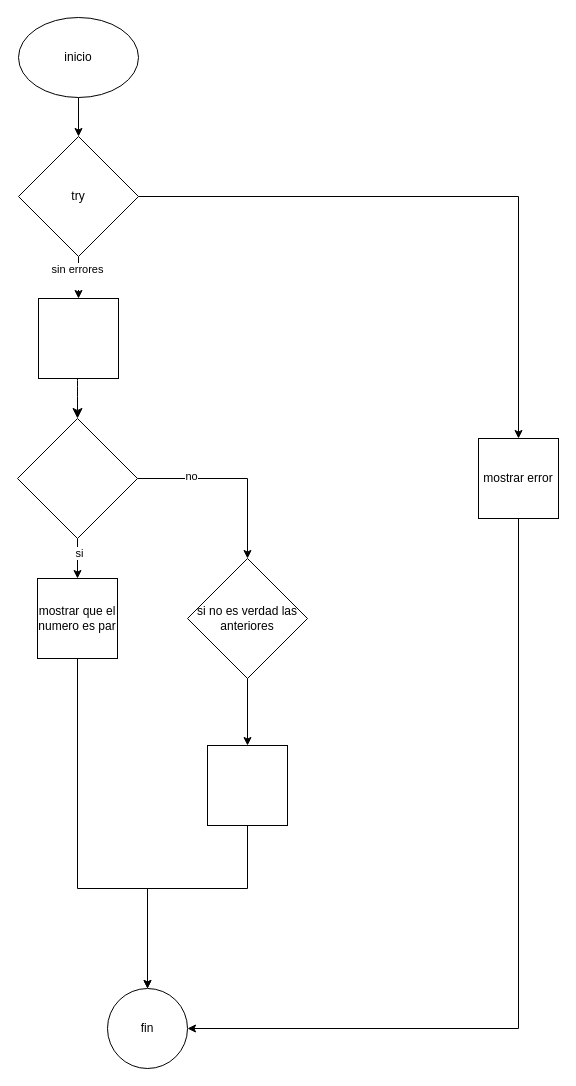
Some shapes in this 576 by 1086 pixel diagram are drawn without their labels. The shapes that lost their labels are listed below. From the top down, each one's centre as x and y in pixels, then its label:
At (78,338): "introducir un numero".
At (77,478): "comprobar si es par".
At (247,785): "mostrar que el numero es impar".
